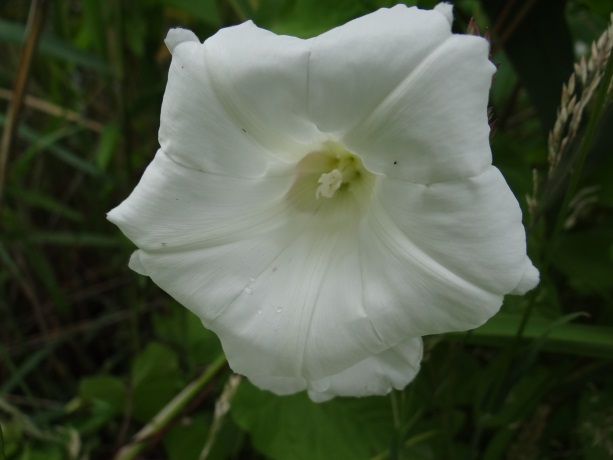haagwinde: (101, 3, 561, 413)
